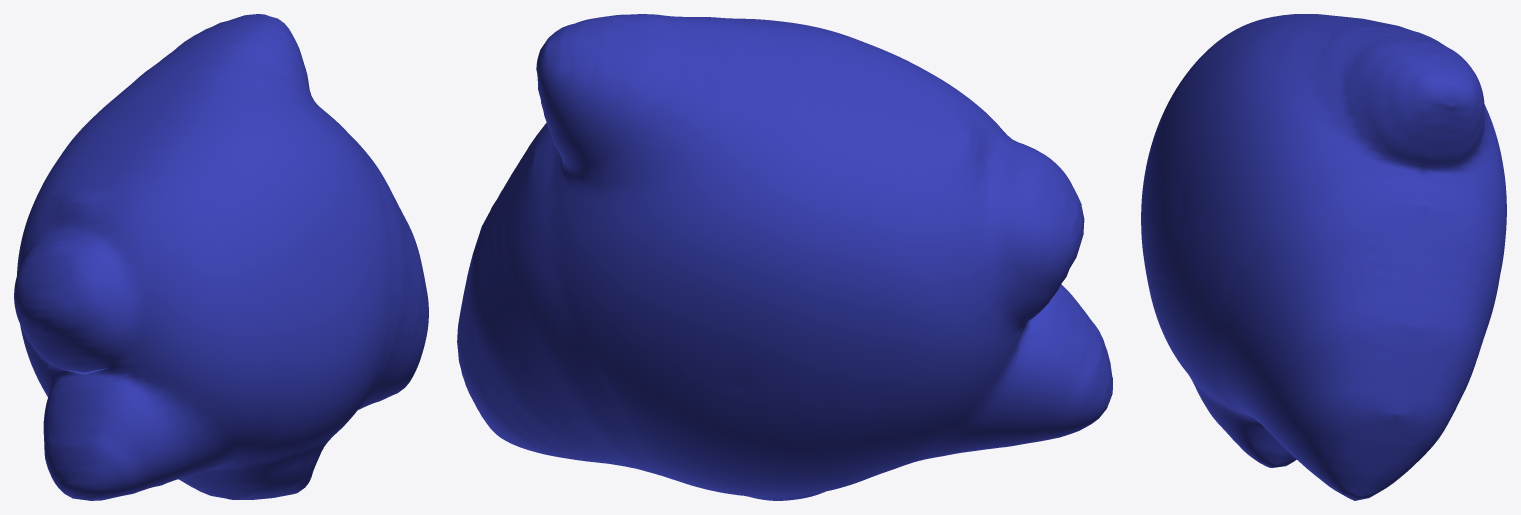
The model's file is tuchki.fbx.
3 renders of one model, left to right at view 1: azimuth 30°, elevation 25°; view 2: azimuth 150°, elevation 25°; view 3: azimuth 270°, elevation 25°, orthographic. The views are drawn at different scales.
Visible parts, largest first — view 1: root; view 2: root; view 3: root.
Part boxes in pixels (left/top/right/bottom): root: left=14, top=14, right=428, bottom=500; root: left=457, top=14, right=1112, bottom=500; root: left=1141, top=14, right=1506, bottom=500.
Bounding box in the file's own units: 0.1106 × 0.0998 × 0.077.
